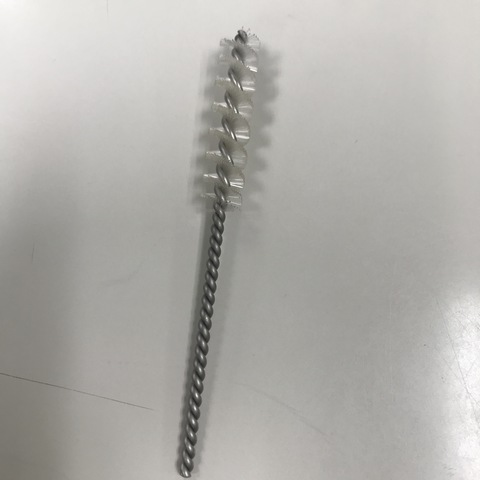Twist Brush-B: (170, 24, 291, 480)
